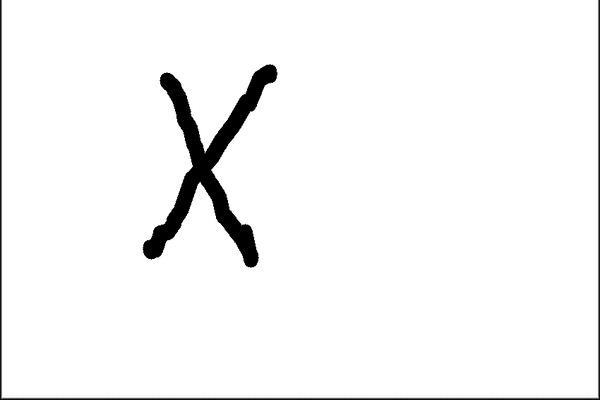X: (105, 32, 292, 277)
